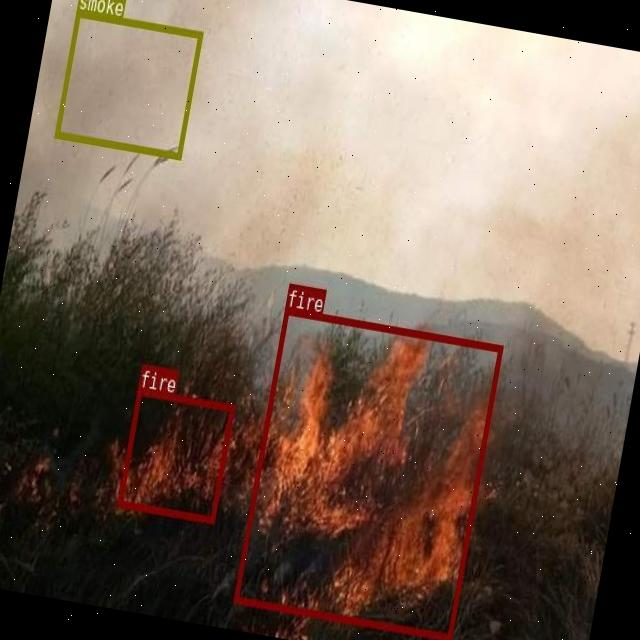fire: (233, 306, 502, 638), (117, 386, 233, 522)
smoke: (52, 9, 202, 159)
